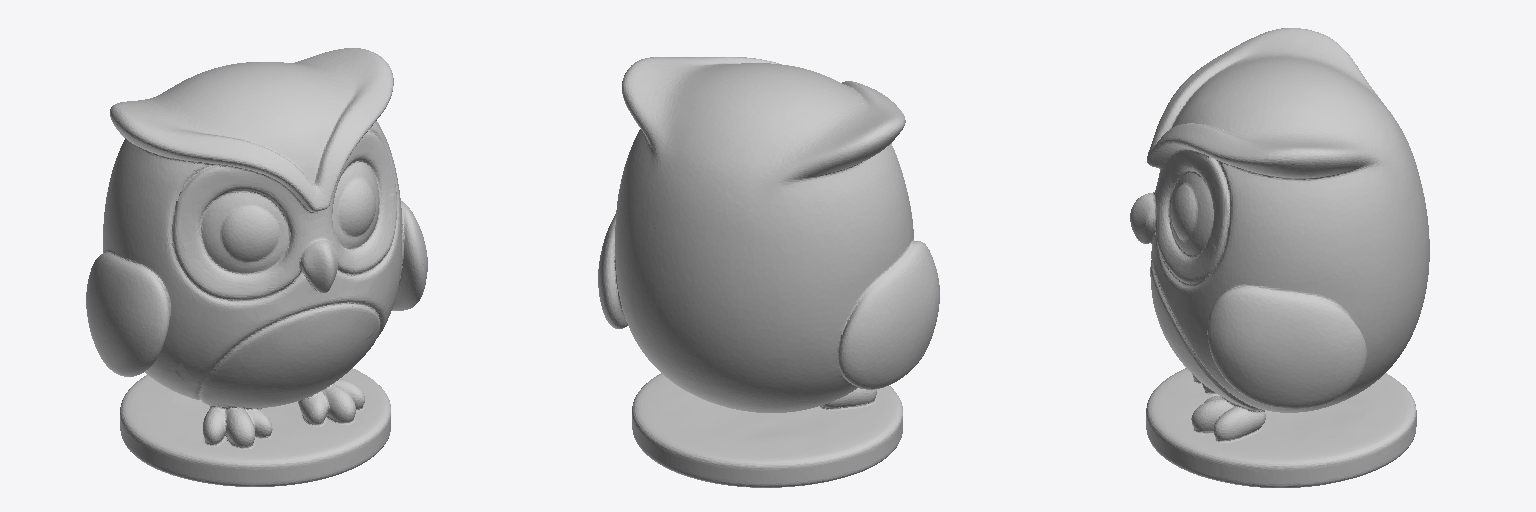
The model's file is cmix0wy4i000mi0nm3i17yr2h.obj.
The picture shows the model from 3 angles: view 1: azimuth 30°, elevation 25°; view 2: azimuth 150°, elevation 25°; view 3: azimuth 270°, elevation 25°; orthographic projection.
Visible parts, largest first — view 1: material; view 2: material; view 3: material.
Part boxes in pixels (x1,y1,x2,y2): material: (86, 48, 427, 486); material: (598, 57, 939, 487); material: (1130, 28, 1429, 487).
Bounding box in the file's own units: 0.8994 × 1 × 0.7632.